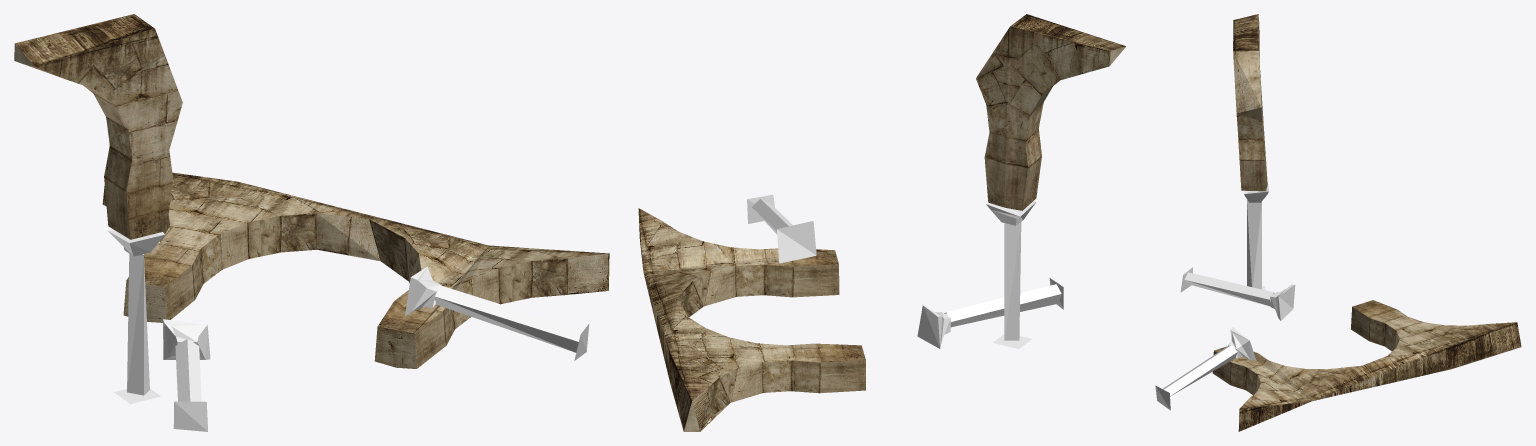
The model's file is desert_ruins_h7_LOD1.fbx.
3 views of the same model, side by side, from view 1: azimuth 30°, elevation 25°; view 2: azimuth 150°, elevation 25°; view 3: azimuth 270°, elevation 25° (orthographic). The views are drawn at different scales.
Parts seen in each view (by area): view 1: Default_Layer; view 2: Default_Layer; view 3: Default_Layer.
Part boxes in pixels (box(x1,y1,x2,y2)): Default_Layer: box(14, 14, 609, 431); Default_Layer: box(638, 14, 1125, 431); Default_Layer: box(1155, 14, 1521, 431).
Bounding box in the file's own units: 211 × 136 × 182.
